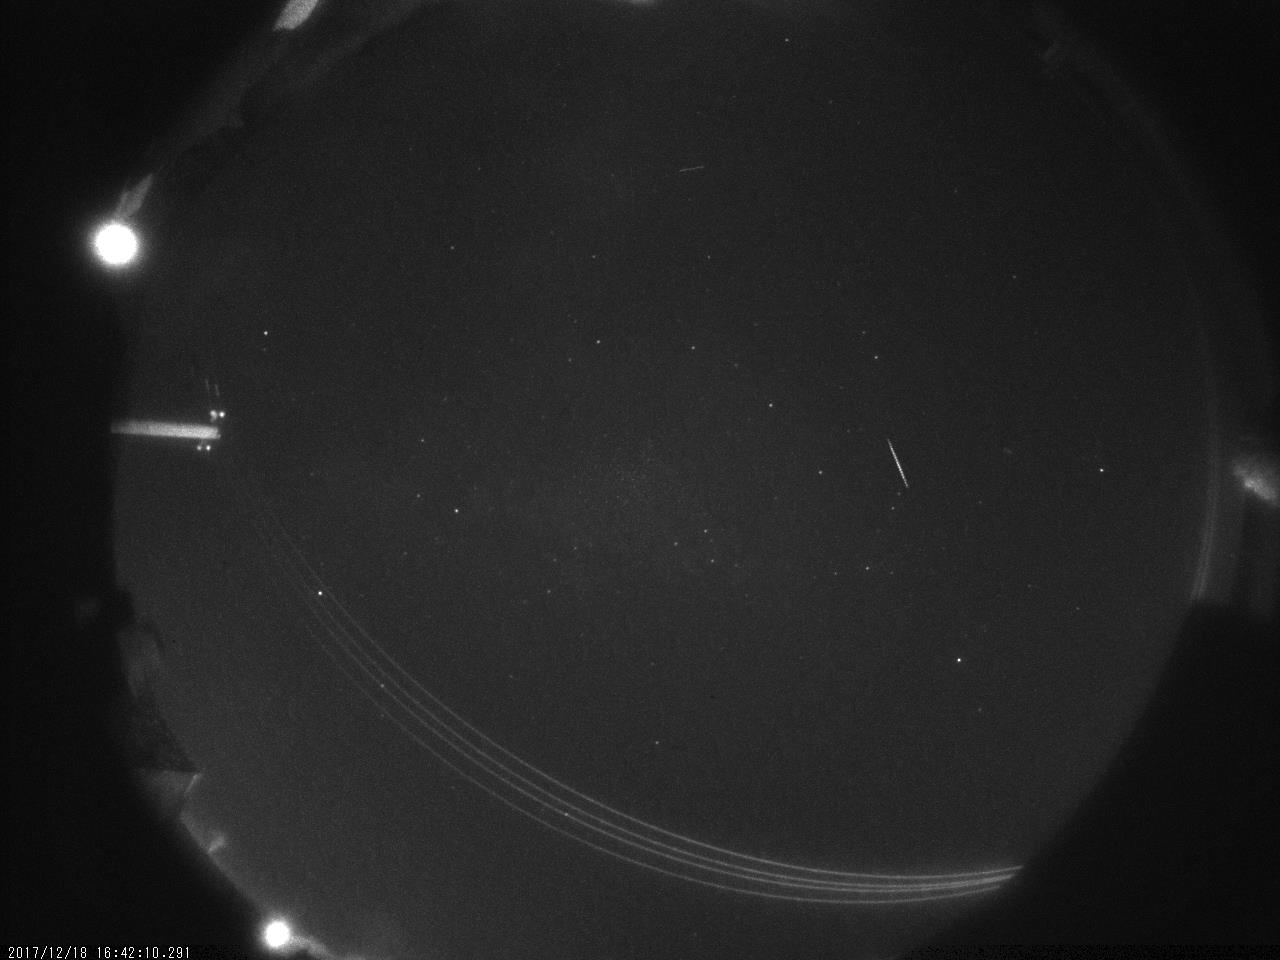meteor: (847, 411, 946, 512)
